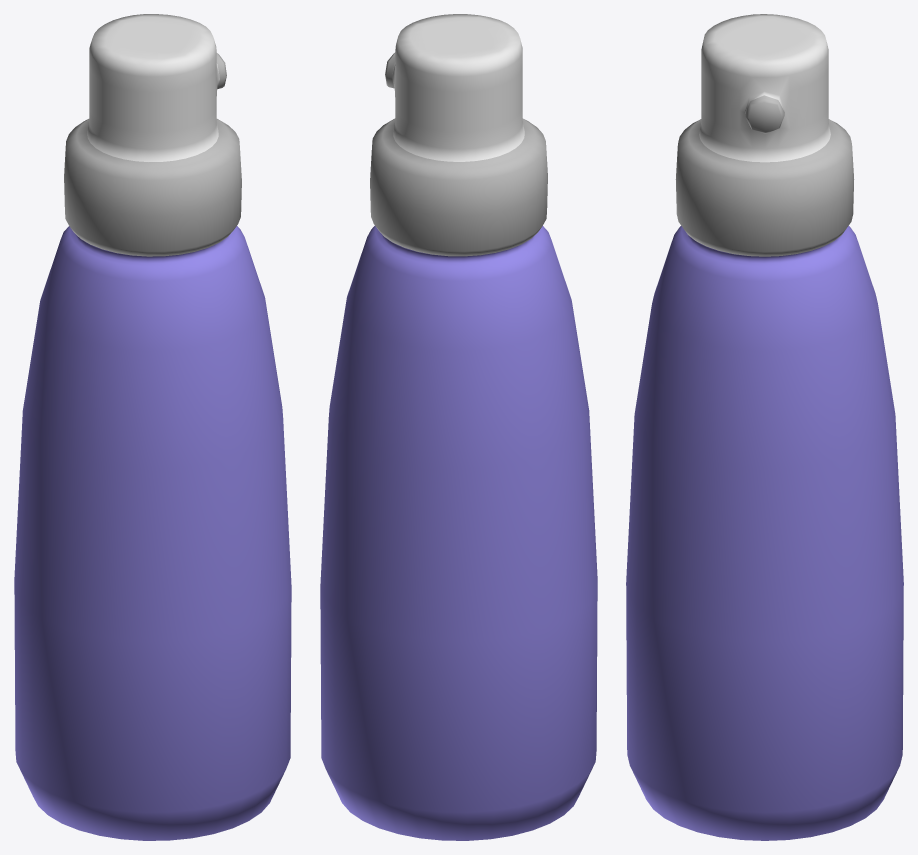
Rendered from Spray_GlassCleaner.glb.
3 views of the same model, side by side, from view 1: azimuth 30°, elevation 25°; view 2: azimuth 150°, elevation 25°; view 3: azimuth 270°, elevation 25° (orthographic).
Parts seen in each view (by area): view 1: Circle; view 2: Circle; view 3: Circle.
Part boxes in pixels (left/top/right/bottom): Circle: left=14, top=14, right=291, bottom=840; Circle: left=320, top=14, right=597, bottom=840; Circle: left=626, top=14, right=903, bottom=840.
Bounding box in the file's own units: 0.7602 × 2.27 × 0.7602.
